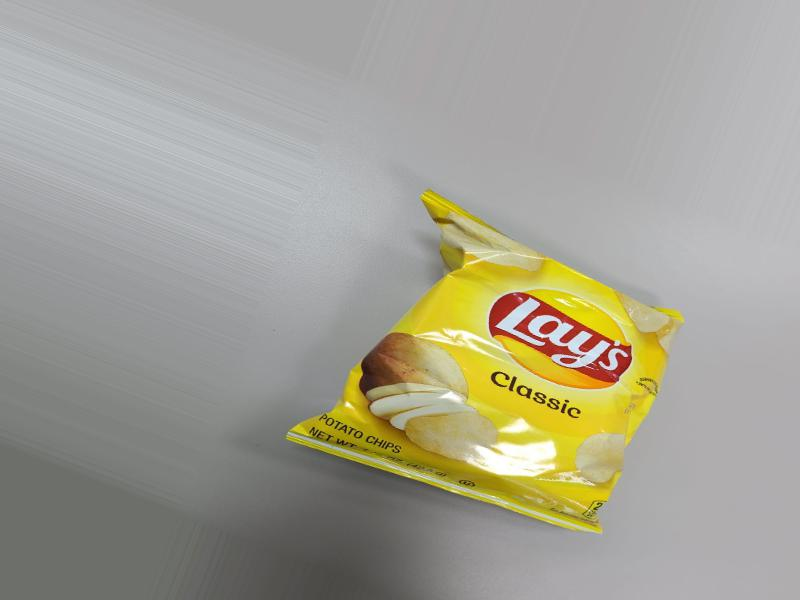lays: (277, 203, 648, 551)
